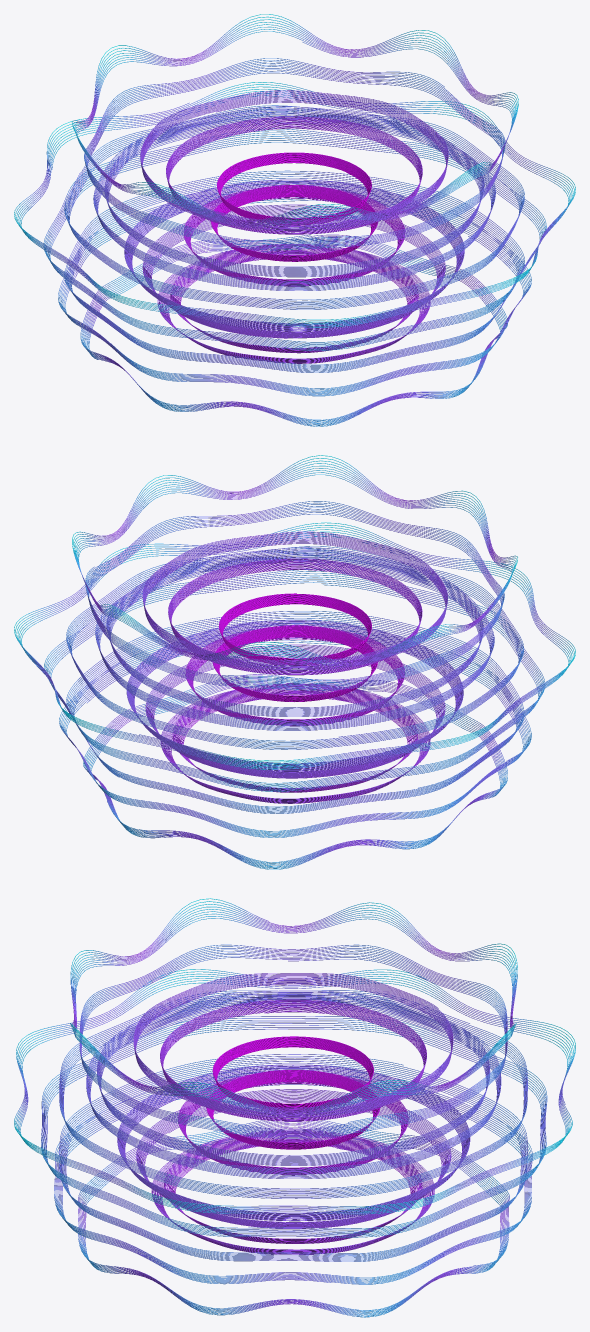
File: coil_6_field_lines.gltf
3 views of the same model, one above another, from view 1: azimuth 30°, elevation 25°; view 2: azimuth 150°, elevation 25°; view 3: azimuth 270°, elevation 25° (orthographic). The views are drawn at different scales.
Parts seen in each view (by area): view 1: Renderer Node; view 2: Renderer Node; view 3: Renderer Node.
Part boxes in pixels (box(x1,y1,x2,y2)): Renderer Node: box(14, 14, 575, 426); Renderer Node: box(14, 455, 575, 869); Renderer Node: box(14, 898, 575, 1317).
Bounding box in the file's own units: 1.09 × 0.5338 × 1.1.
Materials: 1 (1 with a texture image).
